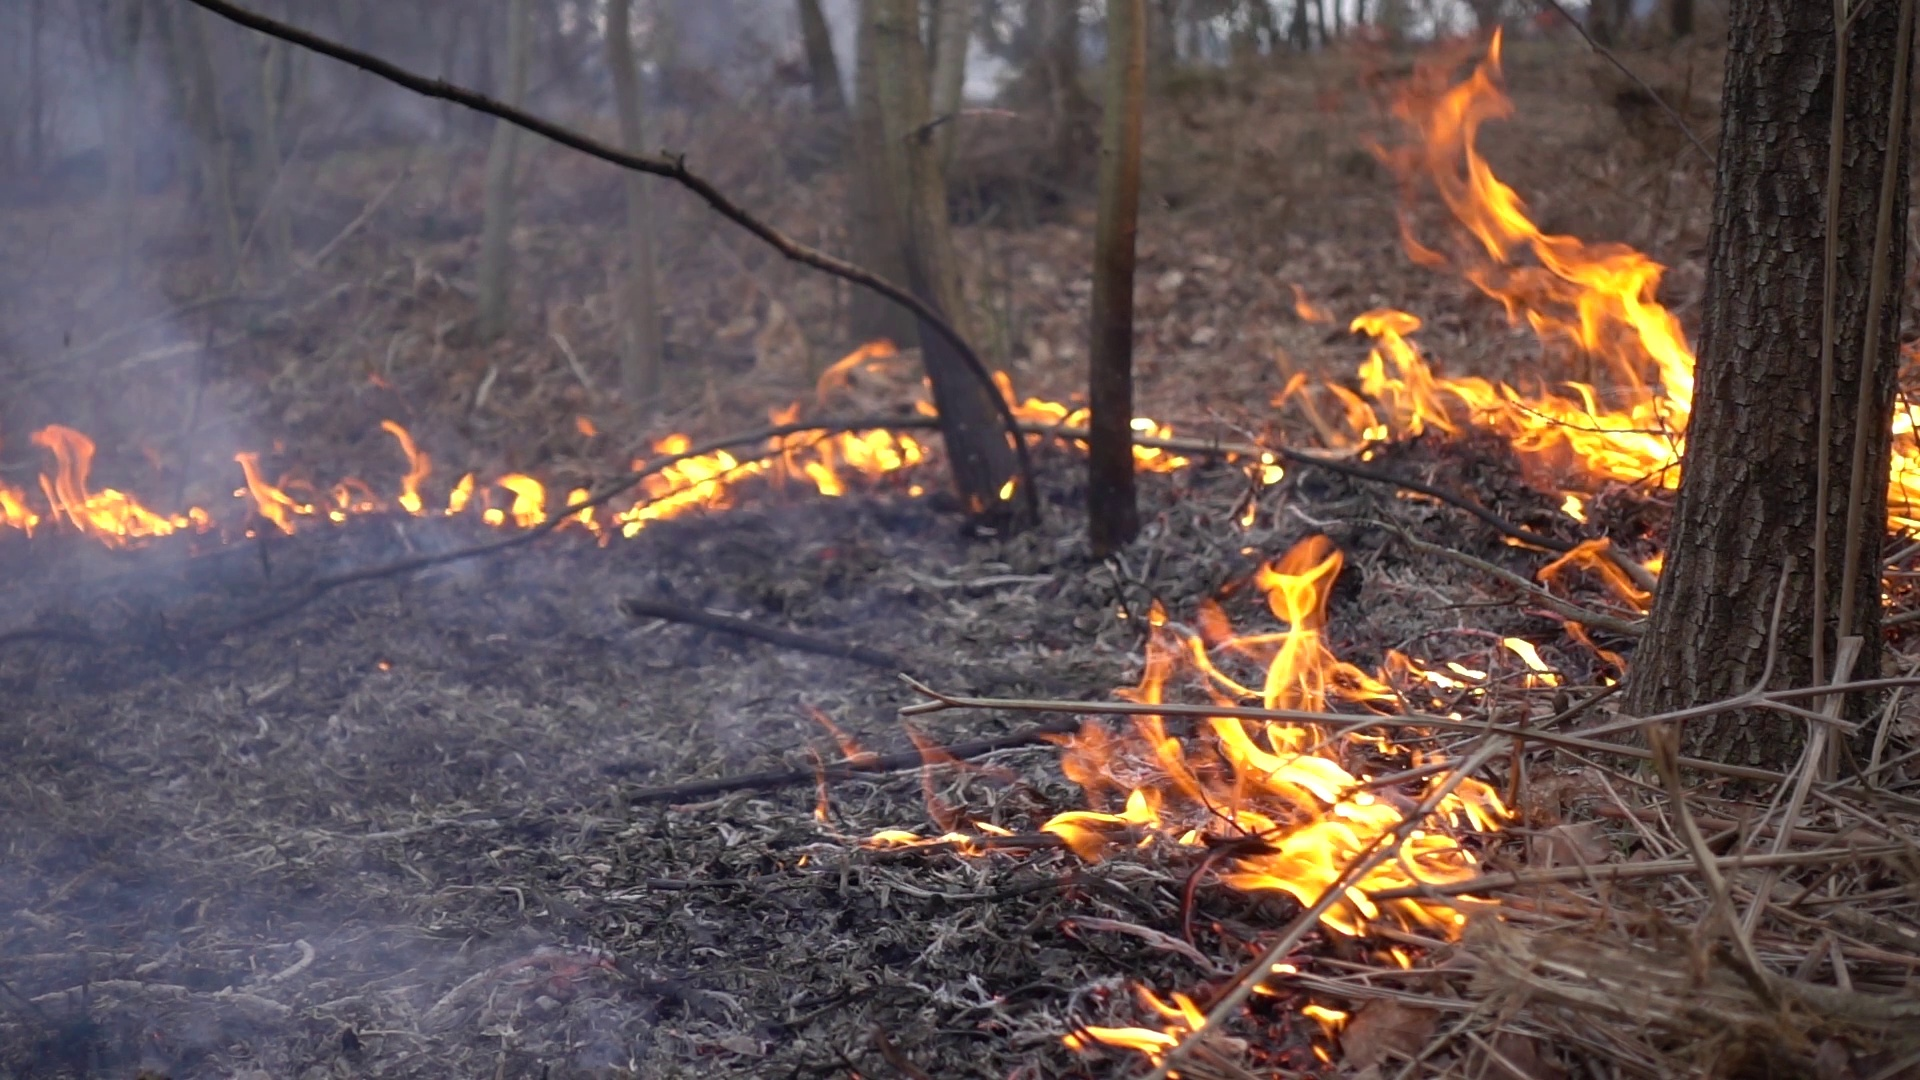fire: (1054, 550, 1505, 952), (1274, 102, 1692, 484), (625, 419, 928, 524), (18, 429, 182, 542), (237, 459, 302, 531), (382, 429, 429, 512), (1894, 401, 1920, 527), (1084, 1025, 1174, 1054), (504, 475, 543, 527)
